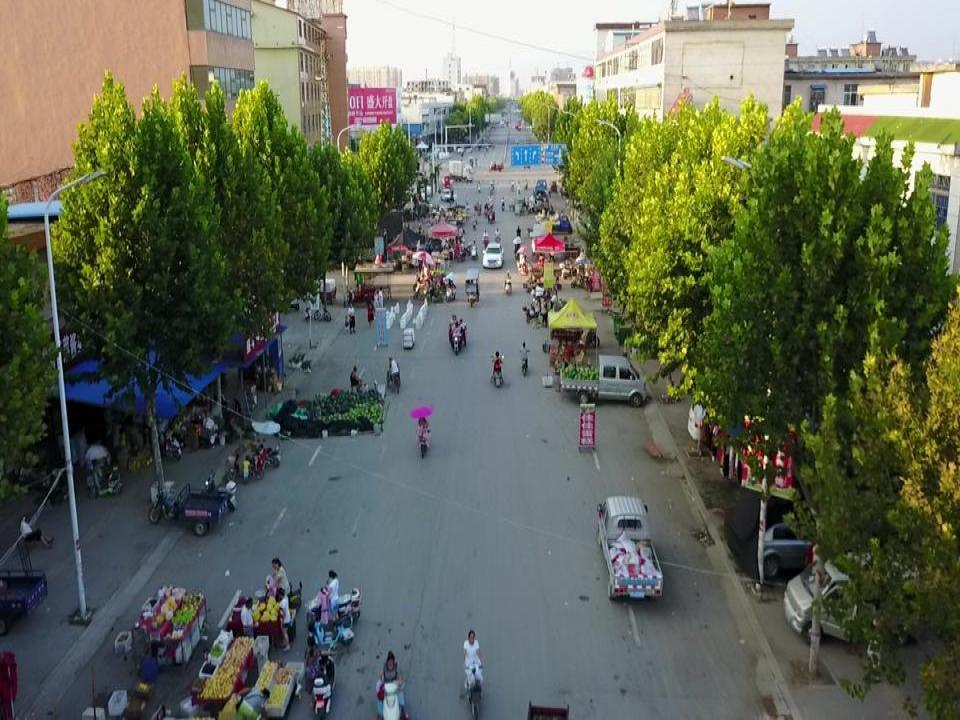car: (726, 487, 893, 580), (684, 383, 793, 445), (482, 244, 504, 268)
truck: (448, 162, 474, 182)
van: (784, 552, 926, 645), (597, 494, 663, 602), (560, 353, 646, 408)
